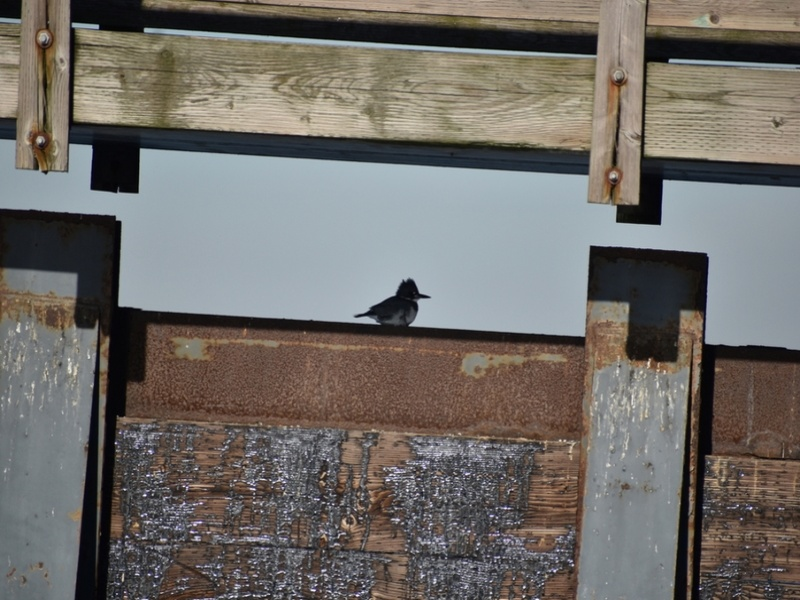kingfisher: (351, 277, 433, 330)
